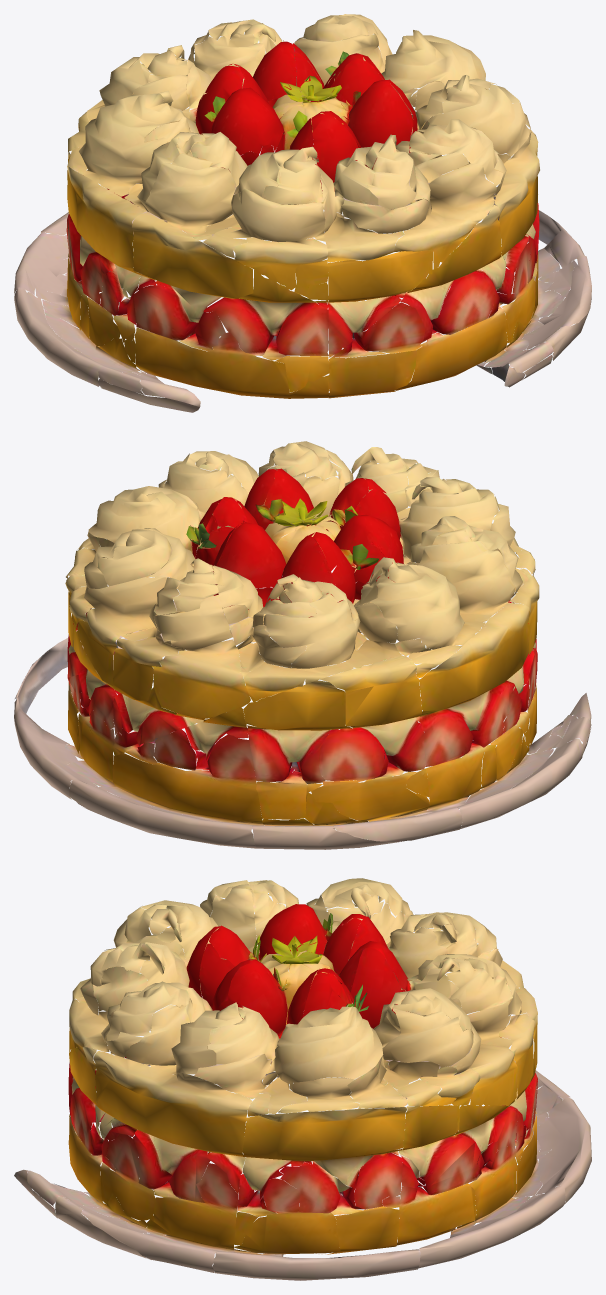
Rendered from strawberry_cake.glb.
3 renders of one model, top to bottom at view 1: azimuth 30°, elevation 25°; view 2: azimuth 150°, elevation 25°; view 3: azimuth 270°, elevation 25°, orthographic.
Parts seen in each view (by area): view 1: tripo_node_c09091b5-5872-4c53-b238-84d413586004; view 2: tripo_node_c09091b5-5872-4c53-b238-84d413586004; view 3: tripo_node_c09091b5-5872-4c53-b238-84d413586004.
Part boxes in pixels (bbox=[...]): tripo_node_c09091b5-5872-4c53-b238-84d413586004: bbox=[14, 14, 591, 412]; tripo_node_c09091b5-5872-4c53-b238-84d413586004: bbox=[14, 441, 591, 849]; tripo_node_c09091b5-5872-4c53-b238-84d413586004: bbox=[14, 878, 591, 1280].
Size of the model in its own units: 0.9807 by 0.4262 by 0.9801.
1 material, 1 textured.
